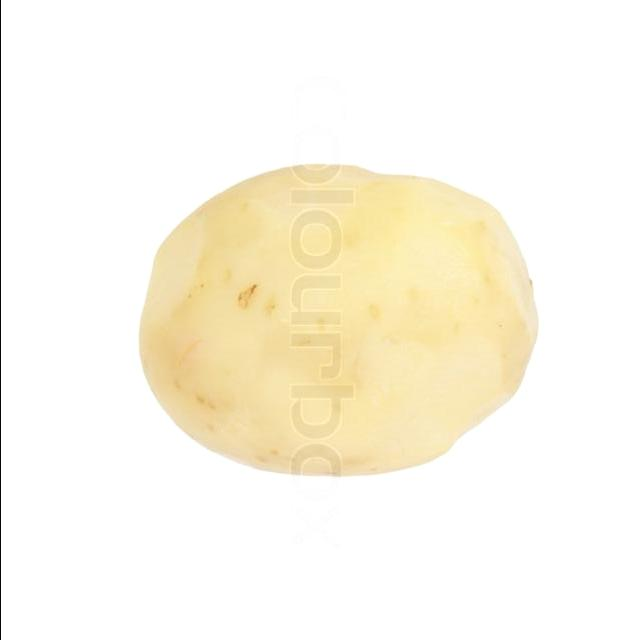potato: (135, 170, 539, 477)
